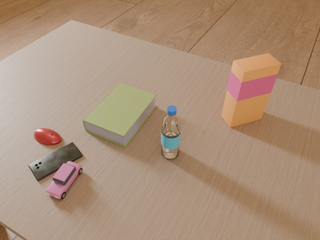book: (83, 83, 157, 147)
bottle: (161, 106, 181, 159)
box: (222, 53, 281, 127)
mouse: (34, 128, 62, 145)
phone: (29, 142, 83, 181)
toy_car: (46, 161, 82, 199)
